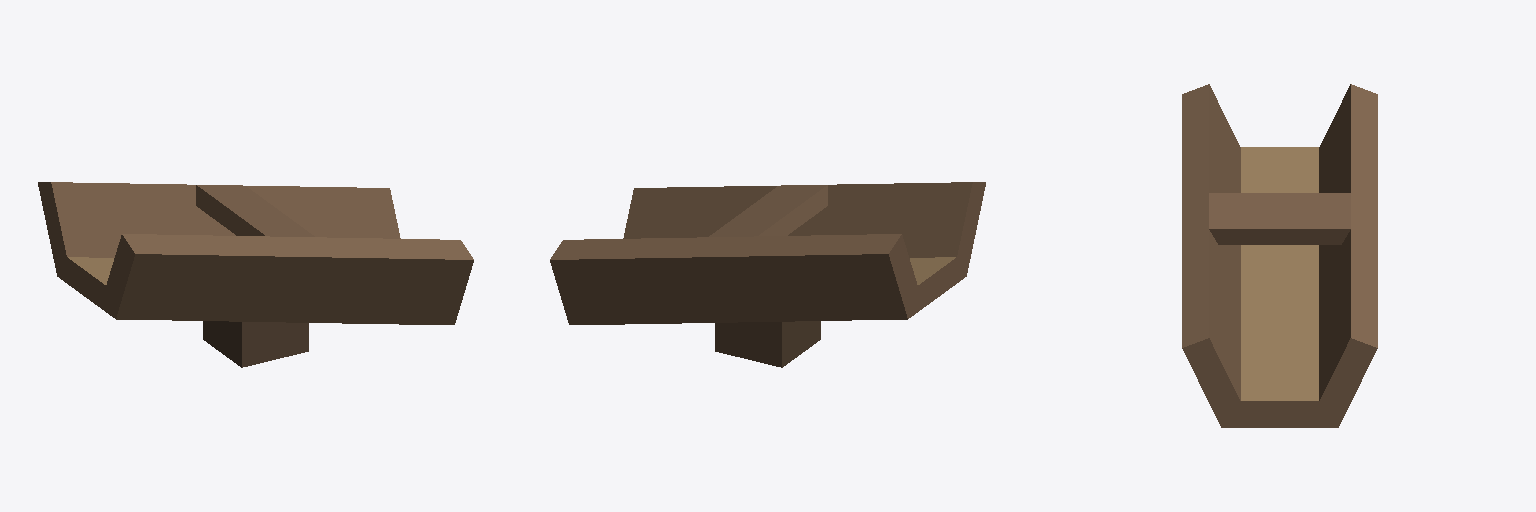
File: Waterwheel_Flume_Ramp_Supported.obj
The picture shows the model from 3 angles: view 1: azimuth 30°, elevation 25°; view 2: azimuth 150°, elevation 25°; view 3: azimuth 270°, elevation 25°; orthographic projection.
Parts seen in each view (by area): view 1: flume_ramp_supported; view 2: flume_ramp_supported; view 3: flume_ramp_supported.
Boxes of the visible parts, <box> form: flume_ramp_supported: <box>38,182,473,367</box>; flume_ramp_supported: <box>550,182,985,367</box>; flume_ramp_supported: <box>1182,84,1377,427</box>.
Bounding box in the file's own units: 1 × 0.5038 × 0.5.